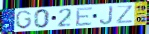0: (33, 9, 53, 29)
2: (57, 8, 73, 28)
E: (75, 6, 94, 27)
G: (15, 10, 33, 30)
J: (99, 5, 114, 26)
Z: (115, 5, 134, 25)
